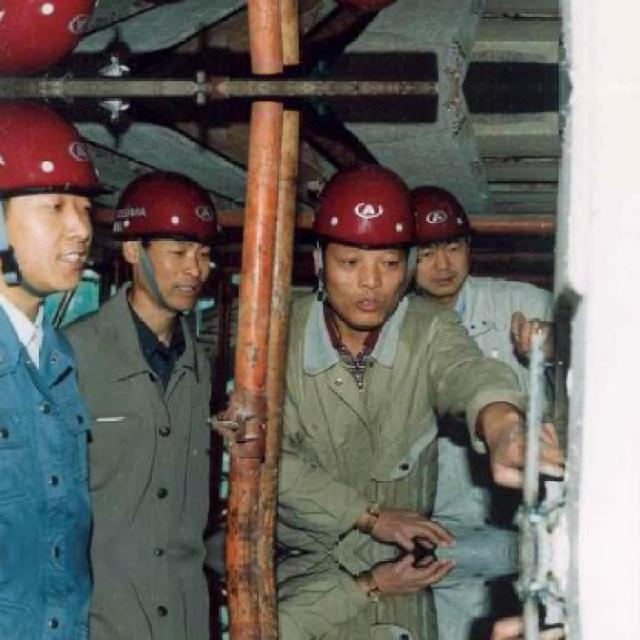con casco: (95, 170, 272, 352), (266, 175, 416, 362), (0, 119, 113, 343), (333, 193, 528, 309)
